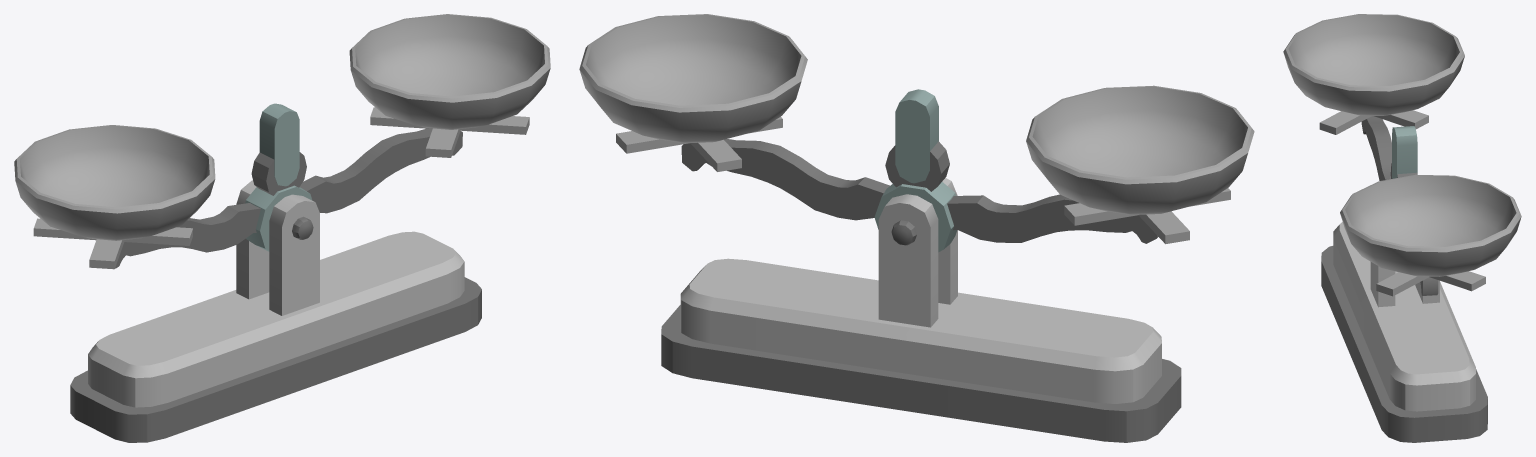
The model's file is lab_equip_03.fbx.
3 views of the same model, side by side, from view 1: azimuth 30°, elevation 25°; view 2: azimuth 150°, elevation 25°; view 3: azimuth 270°, elevation 25° (orthographic). The views are drawn at different scales.
Parts seen in each view (by area): view 1: lab_equip_03; view 2: lab_equip_03; view 3: lab_equip_03.
Boxes of the visible parts, x1,y1,x2,y2 form: lab_equip_03: (14, 14, 550, 442); lab_equip_03: (579, 14, 1254, 442); lab_equip_03: (1283, 14, 1521, 442).
Bounding box in the file's own units: 0.9661 × 0.4364 × 0.4148.
